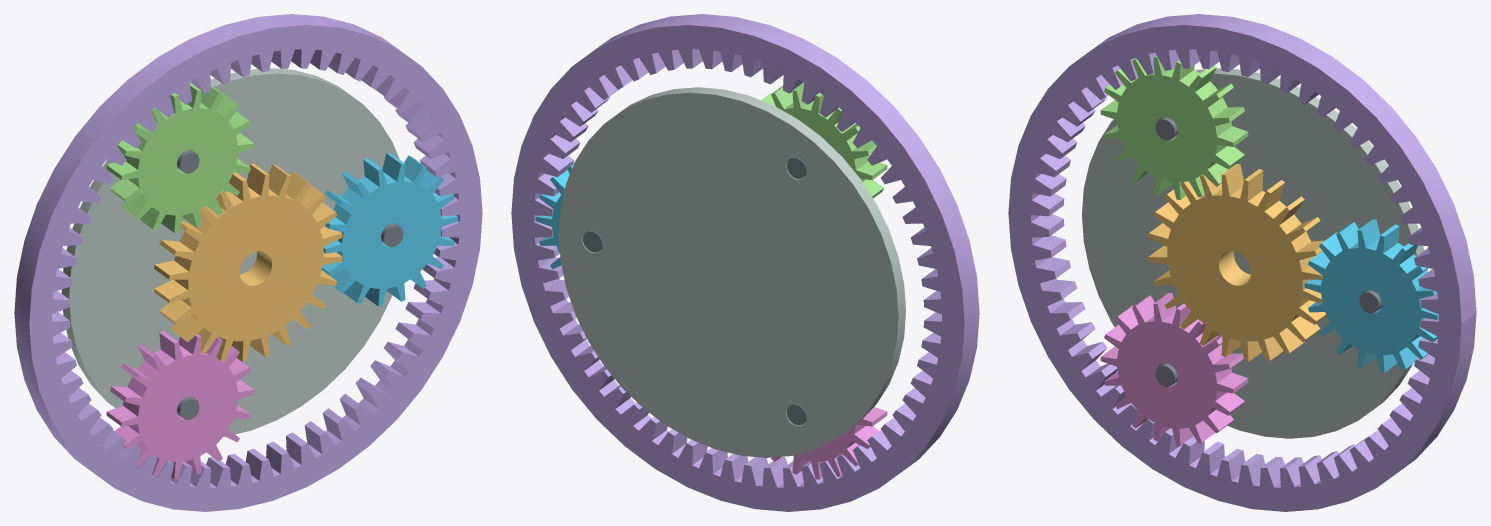
File: planetary_gear_assembly.step.glb
3 renders of one model, left to right at view 1: azimuth 30°, elevation 25°; view 2: azimuth 150°, elevation 25°; view 3: azimuth 330°, elevation 25°, orthographic.
Visible parts, largest first — view 1: o1.2.1, o1.1.1, o1.3.1, o1.4.1, o1.8.1, o1.6.1; view 2: o1.1.1, o1.2.1, o1.6.1, o1.8.1, o1.4.1; view 3: o1.2.1, o1.1.1, o1.3.1, o1.8.1, o1.6.1, o1.4.1.
Boxes of the visible parts, <box> form: o1.2.1: <box>14,14,482,511</box>; o1.1.1: <box>61,68,399,436</box>; o1.3.1: <box>154,164,342,361</box>; o1.4.1: <box>321,153,458,306</box>; o1.8.1: <box>106,331,254,479</box>; o1.6.1: <box>106,82,254,232</box>; o1.1.1: <box>558,87,905,457</box>; o1.2.1: <box>511,14,979,511</box>; o1.6.1: <box>761,82,887,198</box>; o1.8.1: <box>771,407,887,479</box>; o1.4.1: <box>535,162,574,269</box>; o1.2.1: <box>1008,14,1476,511</box>; o1.1.1: <box>1082,68,1427,438</box>; o1.3.1: <box>1148,164,1326,361</box>; o1.8.1: <box>1100,293,1248,446</box>; o1.6.1: <box>1100,55,1248,199</box>; o1.4.1: <box>1304,219,1438,372</box>.
Size of the model in its own units: 0.14 by 0.1396 by 0.014.
